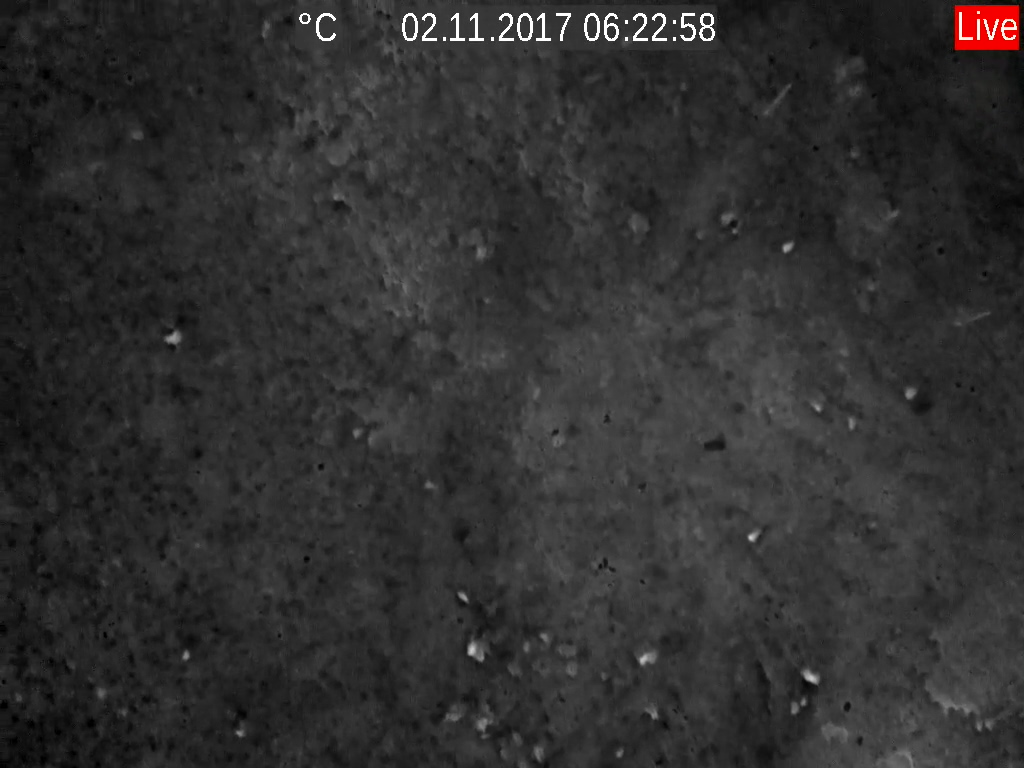warren: (640, 699, 667, 722), (842, 410, 865, 436), (742, 522, 765, 545), (161, 327, 185, 349), (779, 234, 799, 258), (452, 588, 474, 609)
